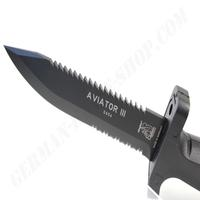knife: (1, 40, 195, 170)
